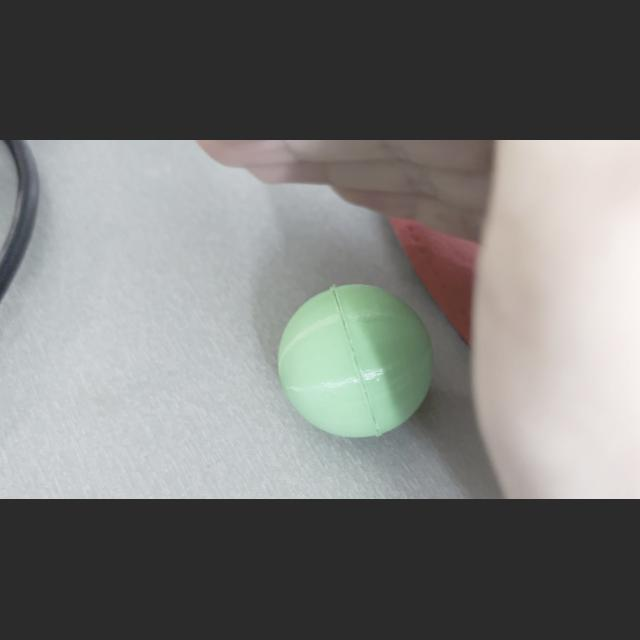objects: (268, 277, 440, 445)
